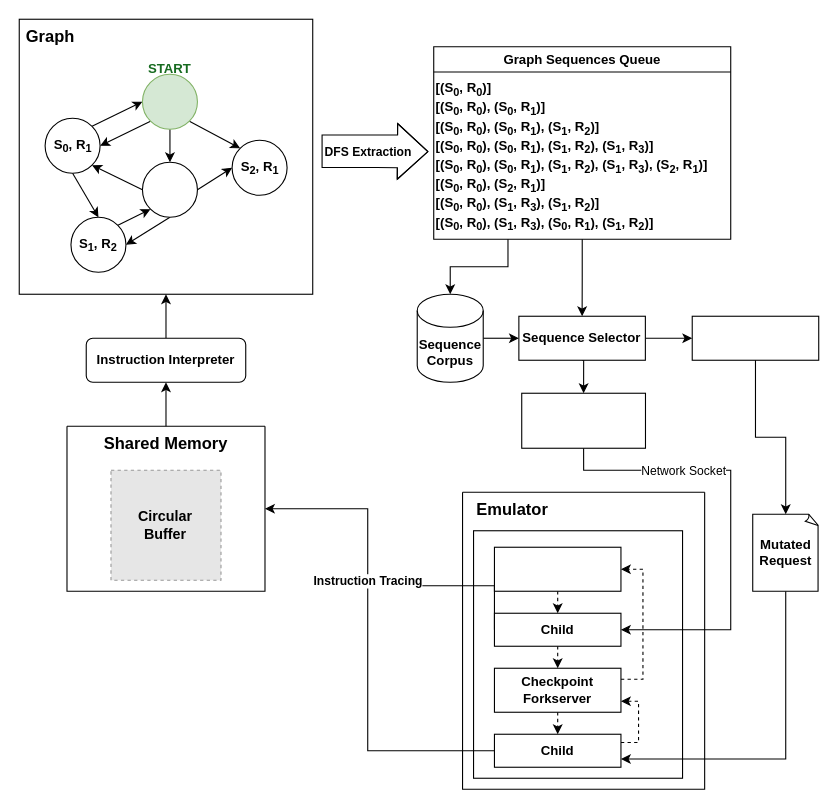
Some shapes in this 838 by 809 pixel diagram are drawn without their labels. Grey dashed boxes stand in for pictures. Each missing label, with the centre of its shape:
"Final Request Mutator" goes at pixel 755 337.
"Main Forkserver" goes at pixel 557 568.
"Prefix Sequence Sender" goes at pixel 583 420.
"S 0 , R 0" goes at pixel 169 101.
"S 1 , R 3" goes at pixel 169 189.
